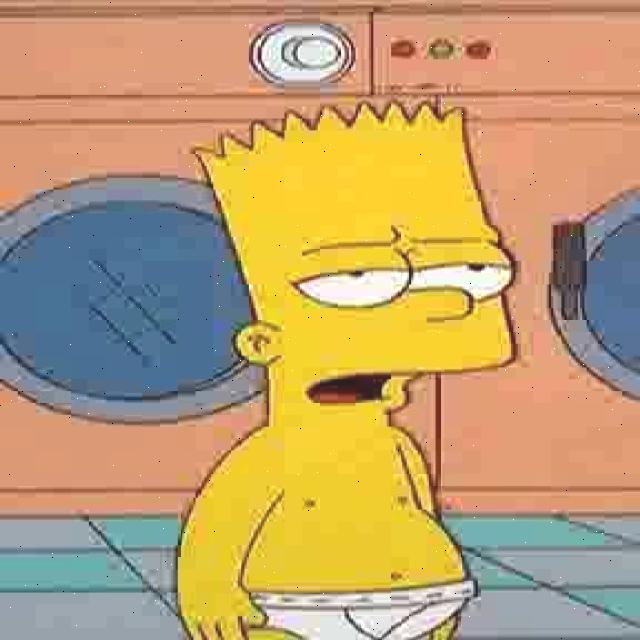Bart Simpson: (187, 98, 524, 430)
